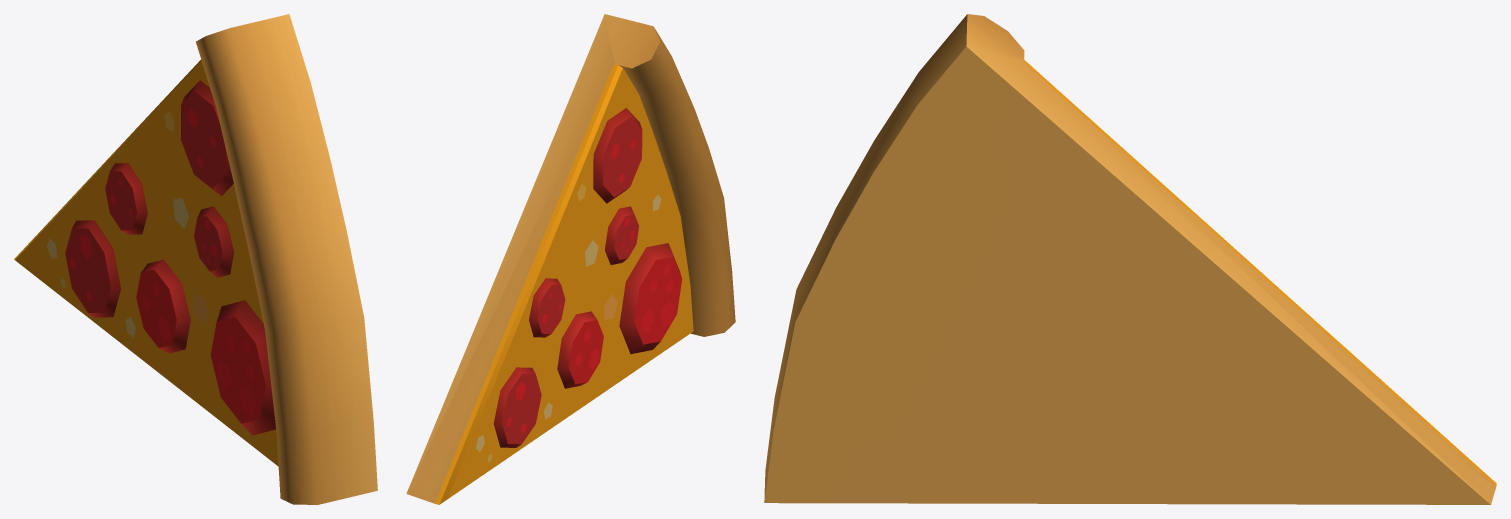
Rendered from PizzaSign_2_A.glb.
The picture shows the model from 3 angles, left to right: view 1: azimuth 30°, elevation 25°; view 2: azimuth 150°, elevation 25°; view 3: azimuth 270°, elevation 25°; orthographic projection. The views are drawn at different scales.
Visible parts, largest first — view 1: PizzaSign_2_A; view 2: PizzaSign_2_A; view 3: PizzaSign_2_A.
Part boxes in pixels (x1,y1,x2,y2): PizzaSign_2_A: (14, 14, 377, 504); PizzaSign_2_A: (406, 14, 735, 504); PizzaSign_2_A: (764, 14, 1496, 504).
Size of the model in its own units: 0.5067 by 2.48 by 3.52.
Materials: 1 (1 with a texture image).
